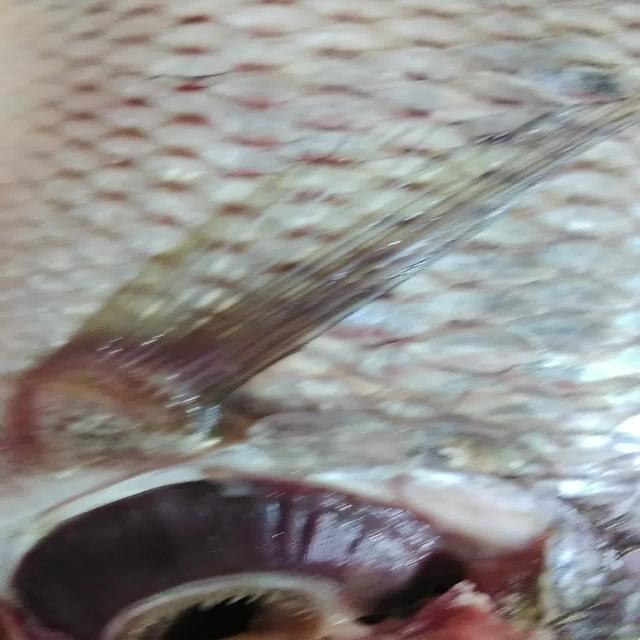Non-Fresh: (39, 464, 430, 634)
